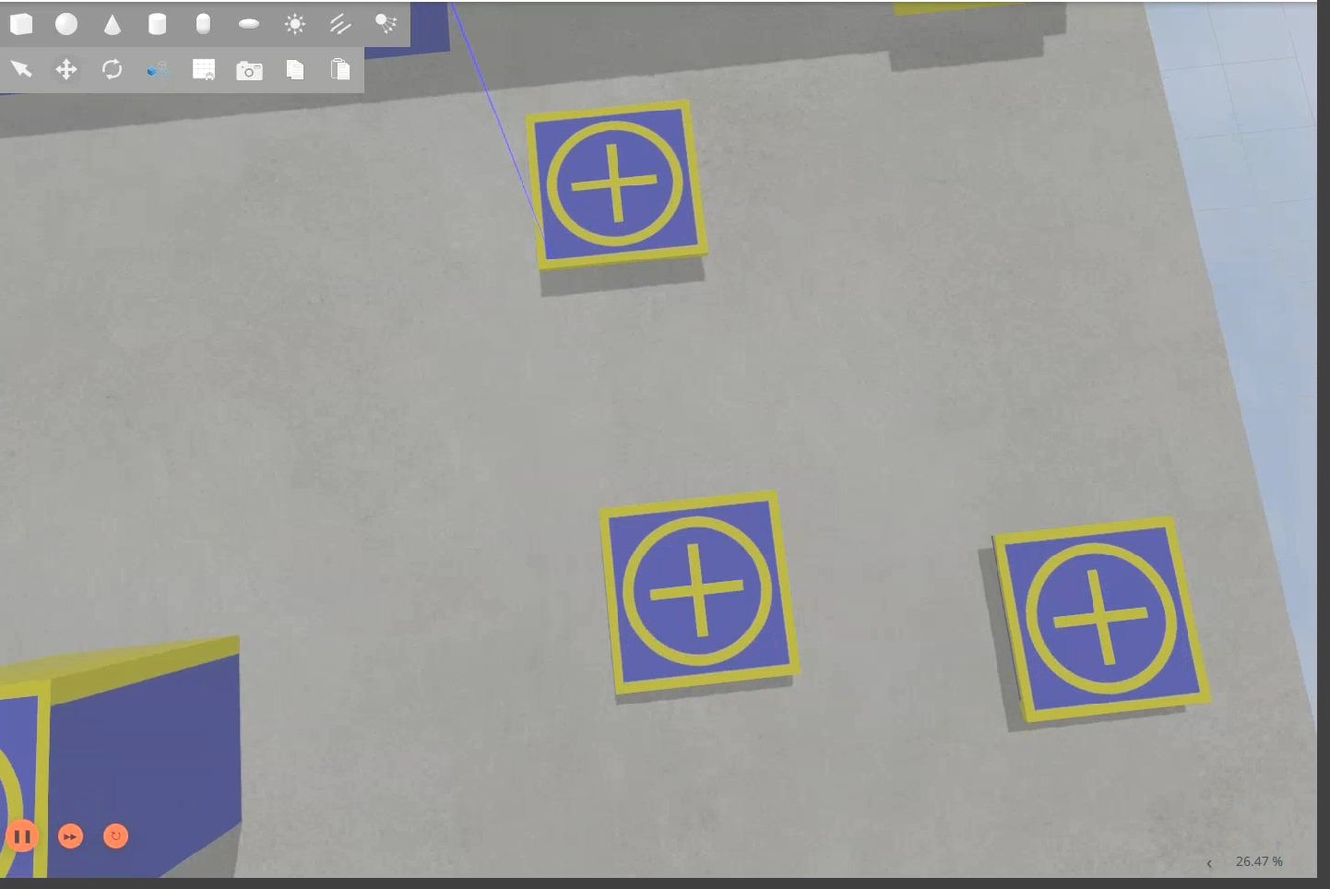small_base: (992, 516, 1217, 731), (597, 490, 801, 705), (523, 101, 710, 275), (1, 672, 65, 889)
